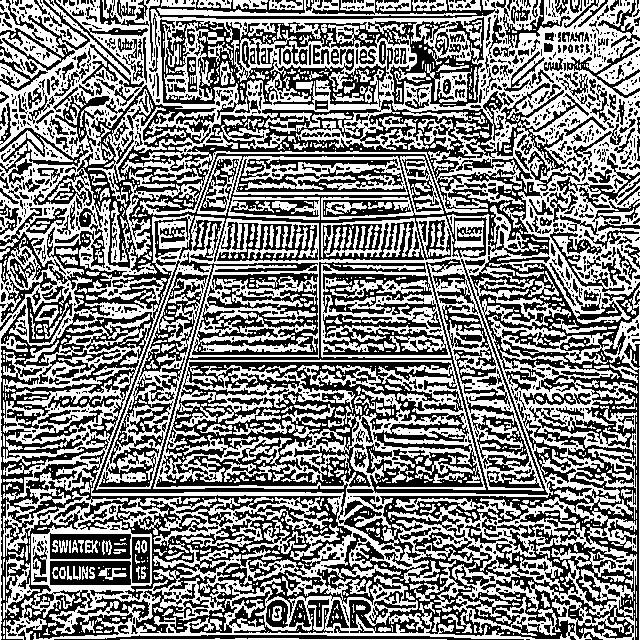left side: (92, 154, 243, 492), (398, 154, 547, 494)
player: (334, 396, 382, 524), (201, 98, 233, 146)
